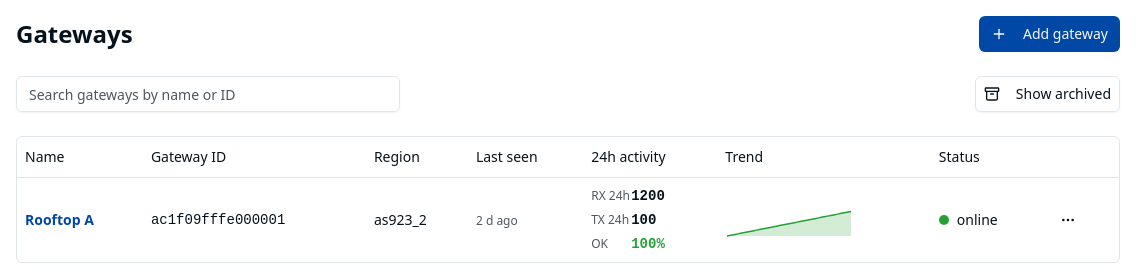
Test: GatewaysPage (Plan 03-08 Task 2) › TestGatewaysList_ShowArchivedToggle — toggle drives include_archived param
Expected: the link "Rooftop A" is shown, [25,210,94,228]
# Click the toggle.
Click the button "Show archived" at [1047, 94], box [975,76,1120,112]
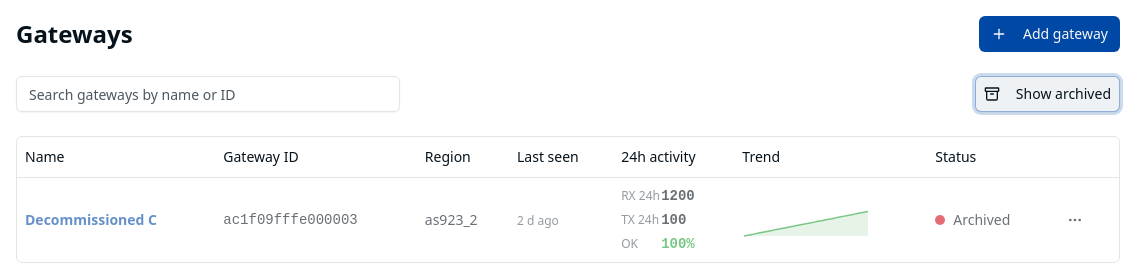
Now the link "Decommissioned C" is shown, box [25,210,157,228]
